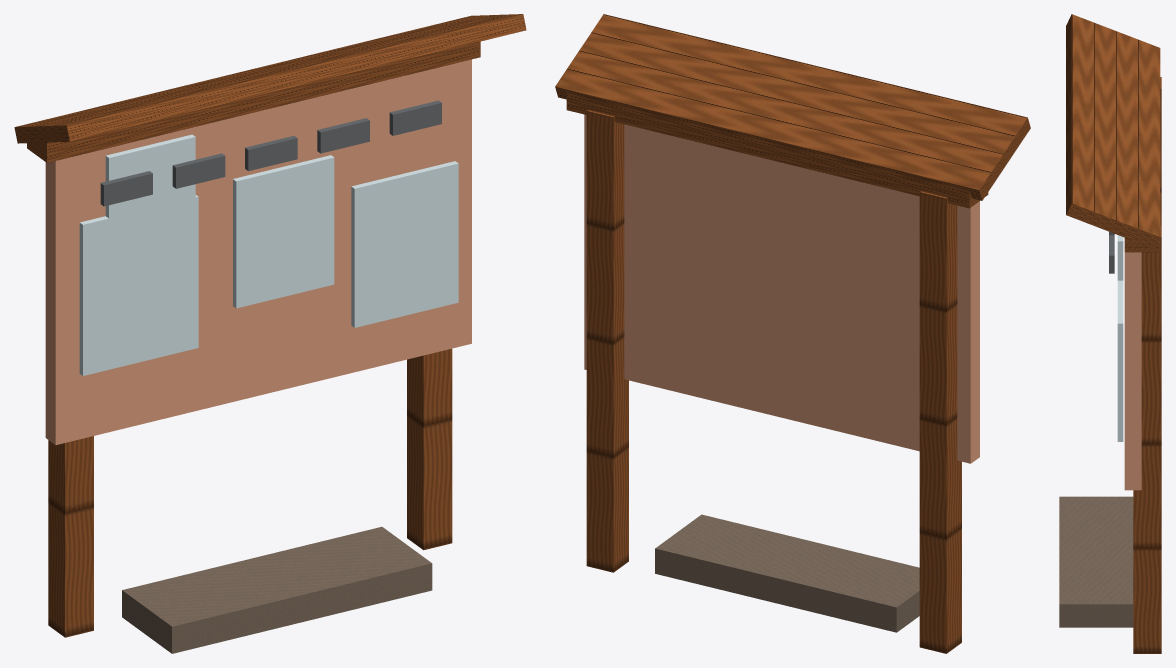
The model's file is allotments-and-community-garden-site-noticeboard-7f4b67a0__35168.glb.
The picture shows the model from 3 angles, left to right: view 1: azimuth 30°, elevation 25°; view 2: azimuth 150°, elevation 25°; view 3: azimuth 270°, elevation 25°; orthographic projection. The views are drawn at different scales.
Visible parts, largest first — view 1: site-noticeboard-terracotta, site-noticeboard-glass, site-noticeboard-timber, site-noticeboard-soil, site-noticeboard-charcoal; view 2: site-noticeboard-terracotta, site-noticeboard-timber, site-noticeboard-soil; view 3: site-noticeboard-timber, site-noticeboard-soil, site-noticeboard-terracotta, site-noticeboard-glass, site-noticeboard-charcoal.
Part boxes in pixels (box(x1,y1,x2,y2)): site-noticeboard-terracotta: box(45, 59, 471, 444); site-noticeboard-glass: box(79, 134, 458, 375); site-noticeboard-timber: box(14, 14, 526, 637); site-noticeboard-soil: box(122, 527, 432, 653); site-noticeboard-charcoal: box(100, 100, 441, 206); site-noticeboard-terracotta: box(584, 114, 979, 463); site-noticeboard-timber: box(555, 14, 1030, 653); site-noticeboard-soil: box(655, 514, 919, 632); site-noticeboard-timber: box(1066, 14, 1161, 653); site-noticeboard-soil: box(1059, 496, 1133, 627); site-noticeboard-terracotta: box(1124, 252, 1141, 490); site-noticeboard-glass: box(1117, 235, 1123, 441); site-noticeboard-charcoal: box(1109, 231, 1114, 273).
Bounding box in the file's own units: 1.58 × 1.81 × 0.36.
5 materials, 2 textured.
